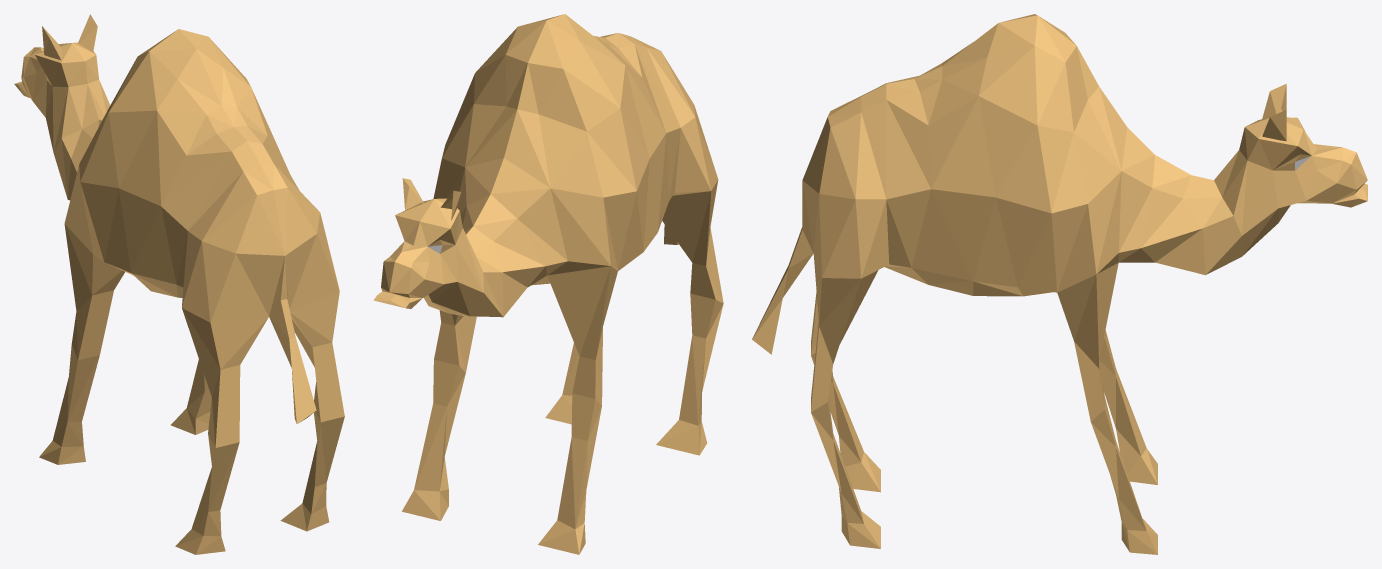
Rendered from npc_world_ugthanki_0.obj.
3 views of the same model, side by side, from view 1: azimuth 30°, elevation 25°; view 2: azimuth 150°, elevation 25°; view 3: azimuth 270°, elevation 25° (orthographic). The views are drawn at different scales.
Bounding box in the file's own units: 0.6484 × 1.52 × 1.72.
